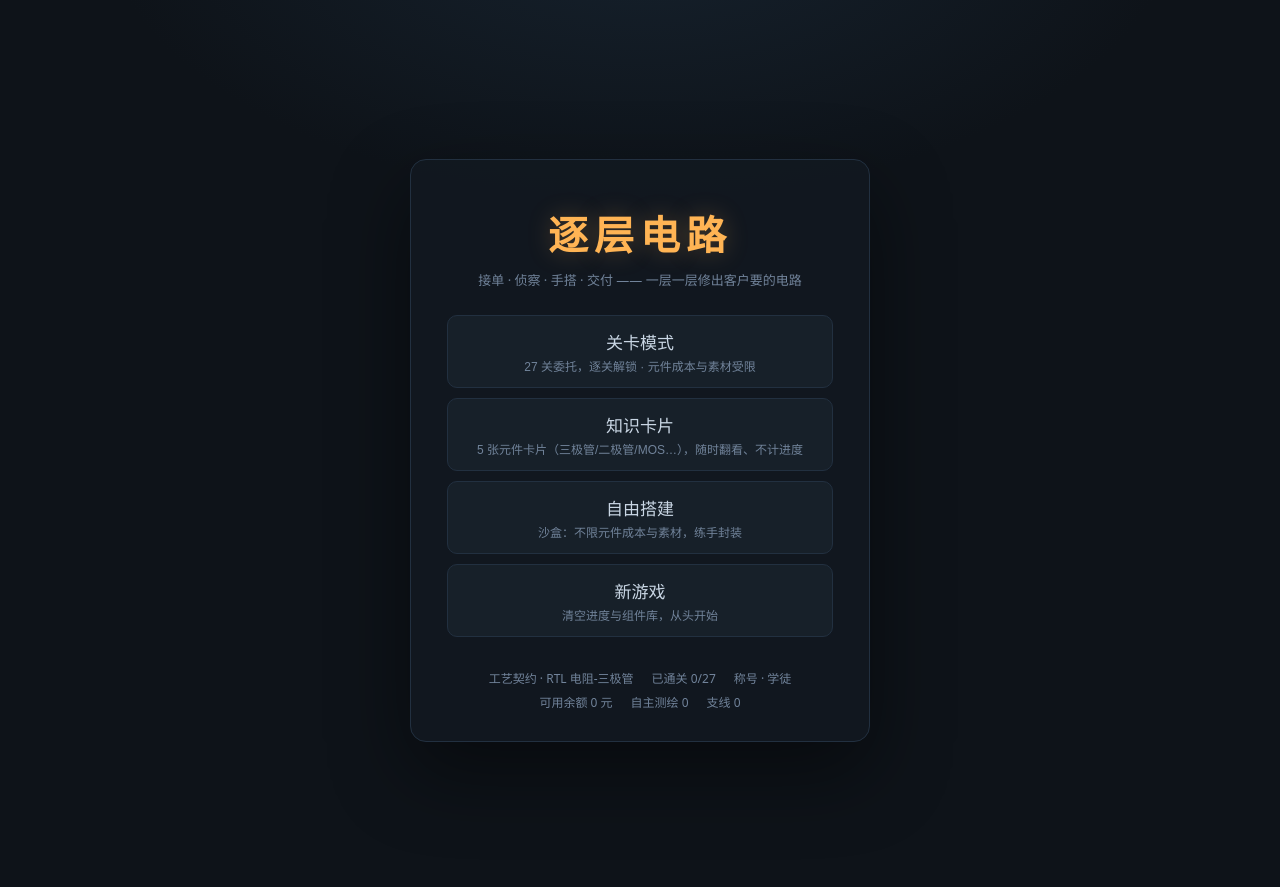
Test: 工作台界面 › 渲染工具栏（载入非门示例后自动仿真跑出图例）
The width and height of the screenshot is (1280, 887).
# 主菜单 → 自由搭建 → 工作台
Click the button "自由搭建 沙盒：不限元件成本与素材，练手封装" at (640, 517), box 447,480 -> 833,554
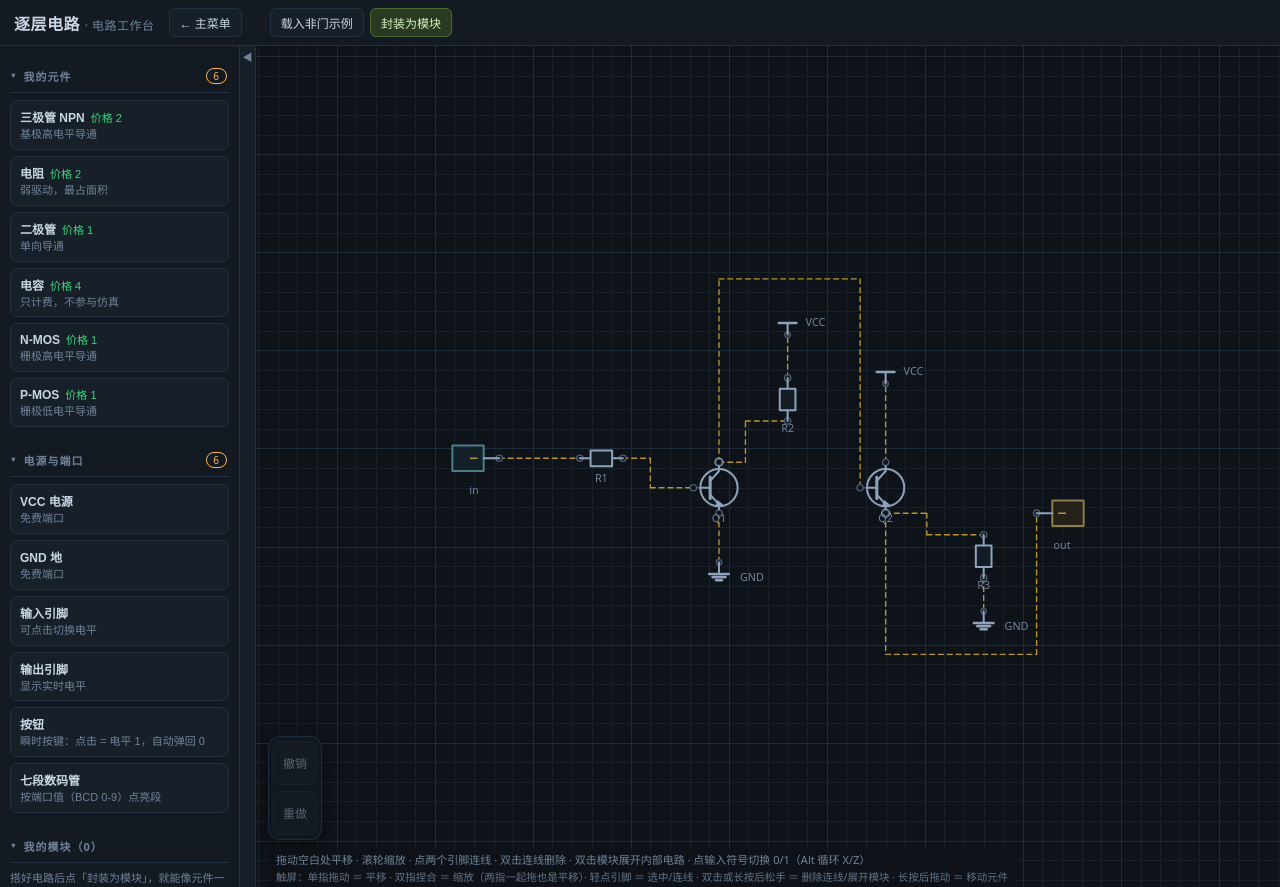
Check: the text "· 电路工作台" is shown, box 85,16 -> 154,34
Click the button "载入非门示例" at (317, 22), box 270,8 -> 364,37
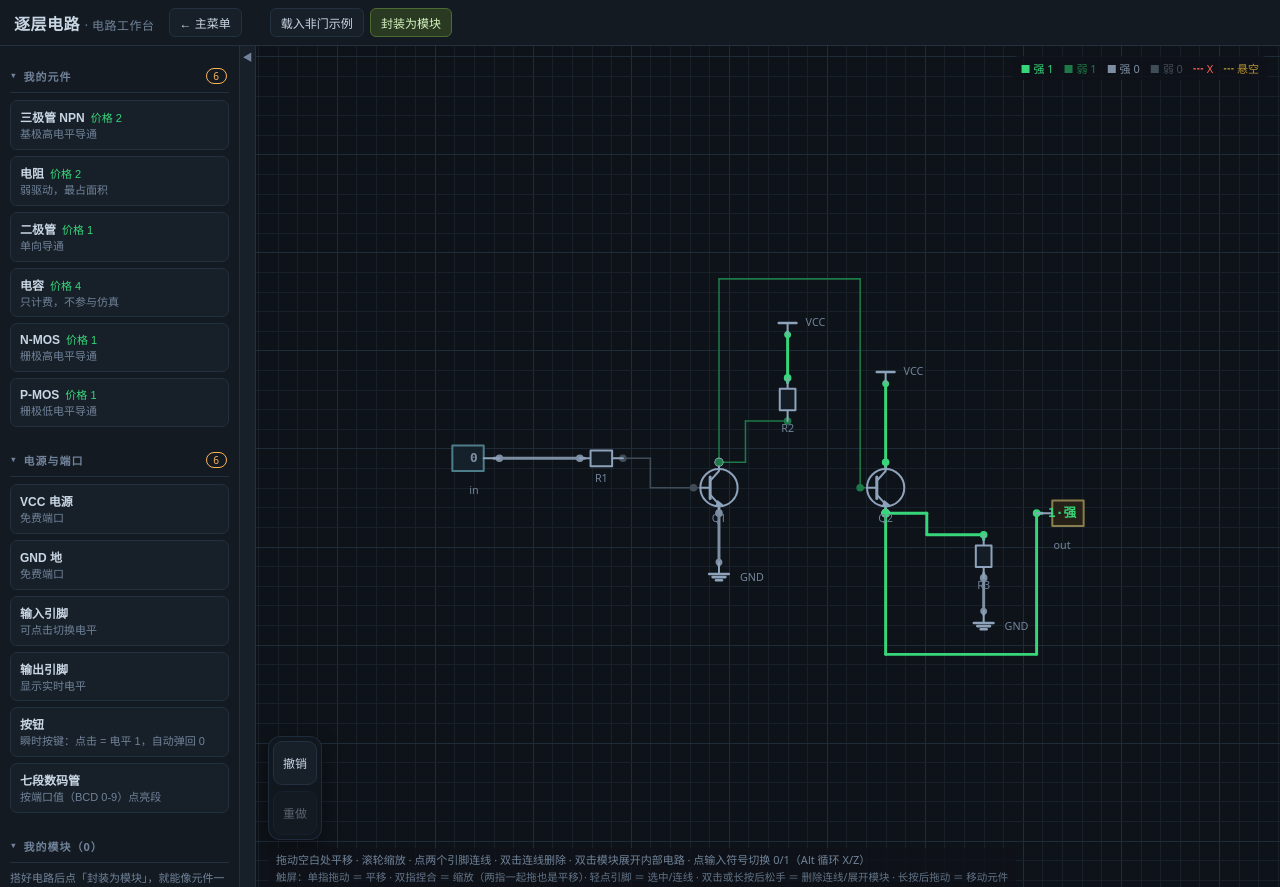
Check: the button "封装为模块" is shown, box 370,8 -> 452,37
Check: the element with class "legend" is shown, box 1012,56 -> 1268,80
